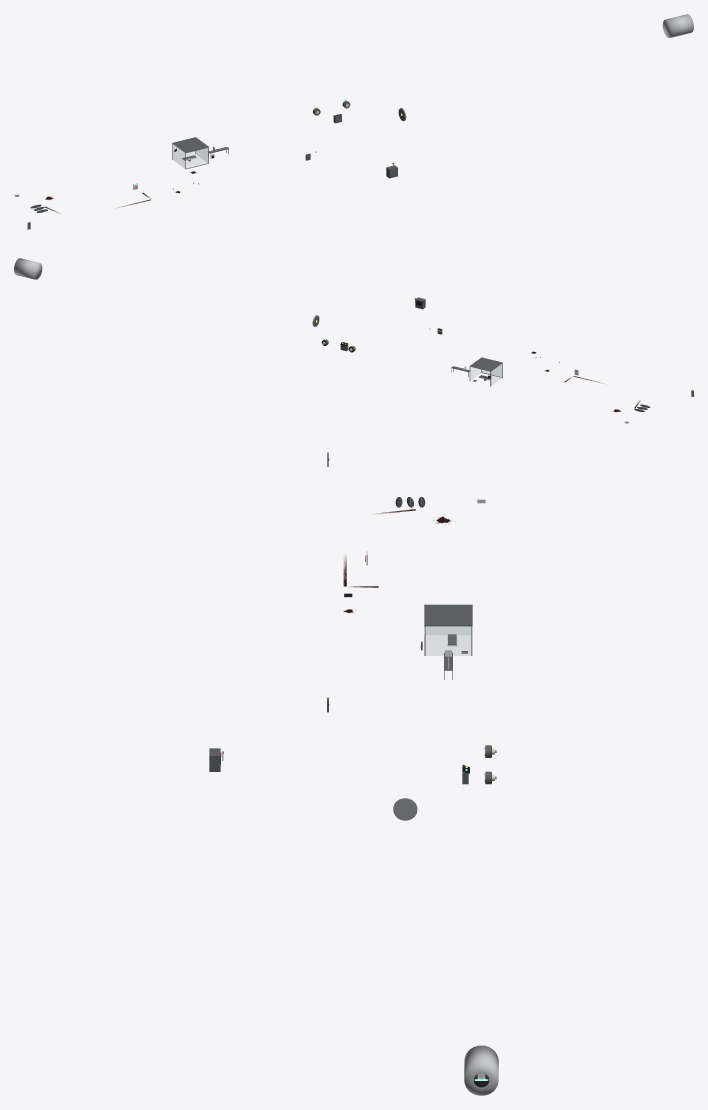
Rendered from story.glb.
3 renders of one model, top to bottom at view 1: azimuth 30°, elevation 25°; view 2: azimuth 150°, elevation 25°; view 3: azimuth 270°, elevation 25°, orthographic. The views are drawn at different scales.
Parts seen in each view (by area): view 1: pod_cabin, iso_roof; view 2: pod_cabin, iso_roof; view 3: pod_cabin, iso_gx2, iso_roof.
Boxes of the visible parts, x1,y1,x2,y2 form: pod_cabin: [662, 14, 693, 37]; iso_roof: [172, 137, 208, 152]; pod_cabin: [14, 258, 42, 279]; iso_roof: [469, 357, 502, 371]; pod_cabin: [464, 1045, 498, 1095]; iso_gx2: [426, 626, 470, 655]; iso_roof: [424, 604, 472, 626].
Size of the model in its own units: 116 by 2.79 by 22.8.
Materials: 25 (3 with a texture image).
